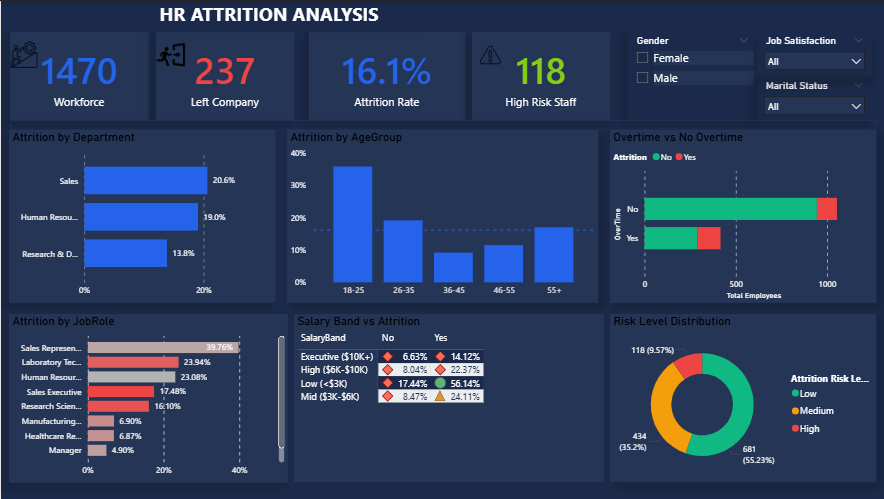

The page's visual inventory and layout, read from the dashboard file:
{"tool":"powerbi","page":{"name":"Executive Summary","canvas":[1280,720],"ordinal":0},"visuals":[{"type":"cardVisual","title":"workforce","fields":{"Data":["hr_clean.Total Employees"]},"box":[13,44.8,201,127.2],"z":0},{"type":"cardVisual","fields":{"Data":["hr_clean.Attrition Rate %"]},"box":[445.3,44.8,225.5,127.2],"z":1000},{"type":"cardVisual","fields":{"Data":["hr_clean.Total Attritions"]},"box":[224.1,44.8,199.5,127.2],"z":2000},{"type":"cardVisual","fields":{"Data":["hr_clean.High Risk Count"]},"box":[681,44.8,199.5,127.2],"z":3000},{"type":"clusteredBarChart","title":"Attrition by Department","fields":{"Category":["hr_clean.Department"],"Y":["hr_clean.Attrition Rate"]},"box":[11.8,186.5,384.7,250.3],"z":4000},{"type":"clusteredColumnChart","title":"Attrition by AgeGroup","fields":{"Category":["hr_clean.AgeGroup"],"Y":["hr_clean.Attrition Rate"]},"box":[413.2,186.5,450.2,250.3],"z":5000},{"type":"clusteredBarChart","title":"Attrition by JobRole","fields":{"Category":["hr_clean.JobRole"],"Y":["hr_clean.Attrition Rate"]},"box":[11.8,451.9,403.1,243.6],"z":6000},{"type":"slicer","fields":{"Values":["hr_clean.Gender"]},"box":[906.5,44.8,186.5,127.2],"z":7000},{"type":"slicer","fields":{"Values":["hr_clean.MaritalStatus"]},"box":[1093,109.9,166.3,62.2],"z":8000},{"type":"barChart","title":"Overtime vs No Overtime","fields":{"Category":["hr_clean.OverTime"],"Y":["hr_clean.Total Employees"],"Series":["hr_clean.Attrition"]},"box":[880.2,186.5,384.7,250.3],"z":9000},{"type":"textbox","title":"HR ATTRITION ANALYSIS","box":[179.3,0,378.8,44.8],"z":10000},{"type":"donutChart","title":"Risk Level Distribution","fields":{"Category":["hr_clean.AttritionRiskLevel"],"Y":["hr_clean.Active Employees"]},"box":[880.5,452.5,384.6,242.9],"z":11000},{"type":"pivotTable","fields":{"Rows":["hr_clean.SalaryBand"],"Columns":["hr_clean.OverTime"],"Values":["hr_clean.Attrition Rate"]},"box":[423.6,452.5,448.2,242.9],"z":12000},{"type":"slicer","fields":{"Values":["hr_clean.JobSatisfactionLabel"]},"box":[1093,44.8,166.3,63.6],"z":13000},{"type":"shape","box":[13,172,1252,14.5],"z":14000}]}

Visuals, with their boxes in screenshot pixels (x1, y1, x2, y2), scaled from the page's 1280x720 canvas onto the 884x499 screenshot:
"workforce" cardVisual: bbox=(9, 31, 148, 119)
cardVisual - hr_clean.Attrition Rate %: bbox=(308, 31, 463, 119)
cardVisual - hr_clean.Total Attritions: bbox=(155, 31, 293, 119)
cardVisual - hr_clean.High Risk Count: bbox=(470, 31, 608, 119)
"Attrition by Department" clusteredBarChart: bbox=(8, 129, 274, 303)
"Attrition by AgeGroup" clusteredColumnChart: bbox=(285, 129, 596, 303)
"Attrition by JobRole" clusteredBarChart: bbox=(8, 313, 287, 482)
slicer - hr_clean.Gender: bbox=(626, 31, 755, 119)
slicer - hr_clean.MaritalStatus: bbox=(755, 76, 870, 119)
"Overtime vs No Overtime" barChart: bbox=(608, 129, 874, 303)
"HR ATTRITION ANALYSIS" textbox: bbox=(124, 0, 385, 31)
"Risk Level Distribution" donutChart: bbox=(608, 314, 874, 482)
pivotTable - hr_clean.SalaryBand x hr_clean.OverTime: bbox=(293, 314, 602, 482)
slicer - hr_clean.JobSatisfactionLabel: bbox=(755, 31, 870, 75)
shape: bbox=(9, 119, 874, 129)
